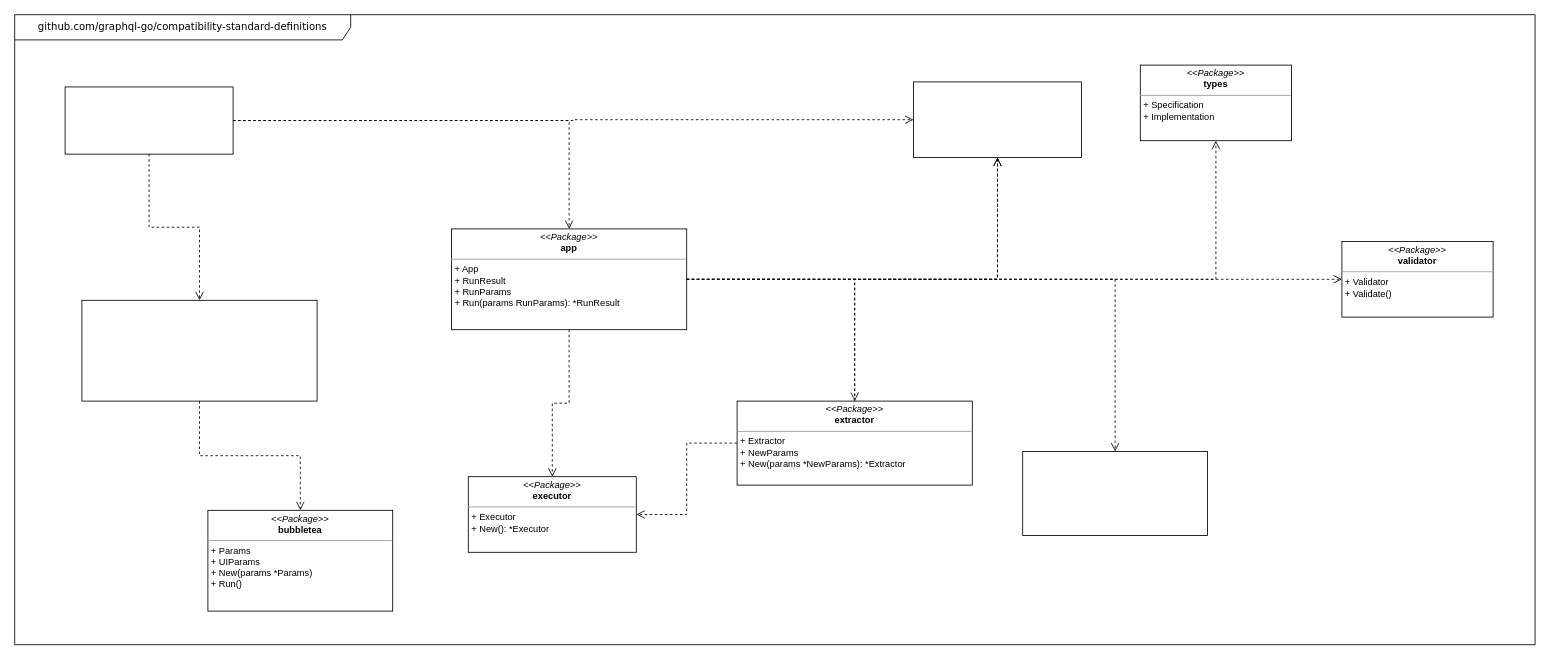
Image size: 1550x659. Some labels were removed from this diagram. The centre of each missing label's shape, as x and y in pixels:
"<<Package>> cmd + CLI + RunResult + RunParams + Run(p *RunParams): *RunResult" goes at (199,350).
"<<Package>> config + Config + New(): *Config" goes at (997,119).
"<<Package>> main + main()" goes at (148,120).
"<<Package>> puller + Puller + PullParams + Pull(params *PullParams)" goes at (1115,493).
